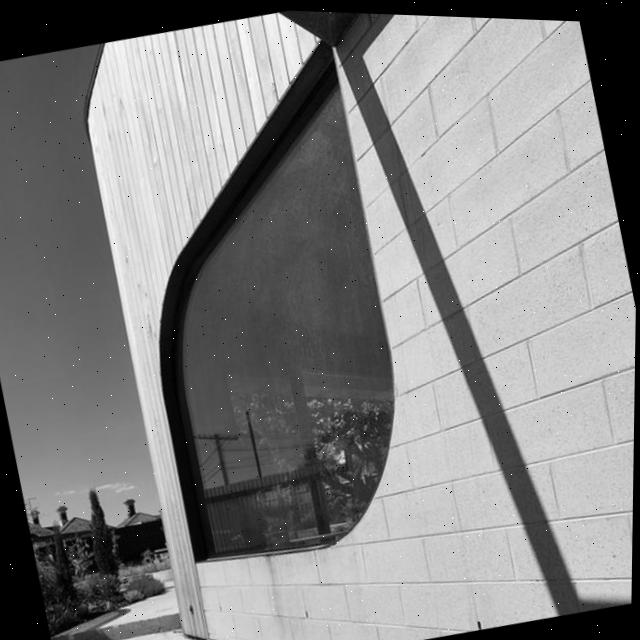building: (57, 2, 640, 640)
